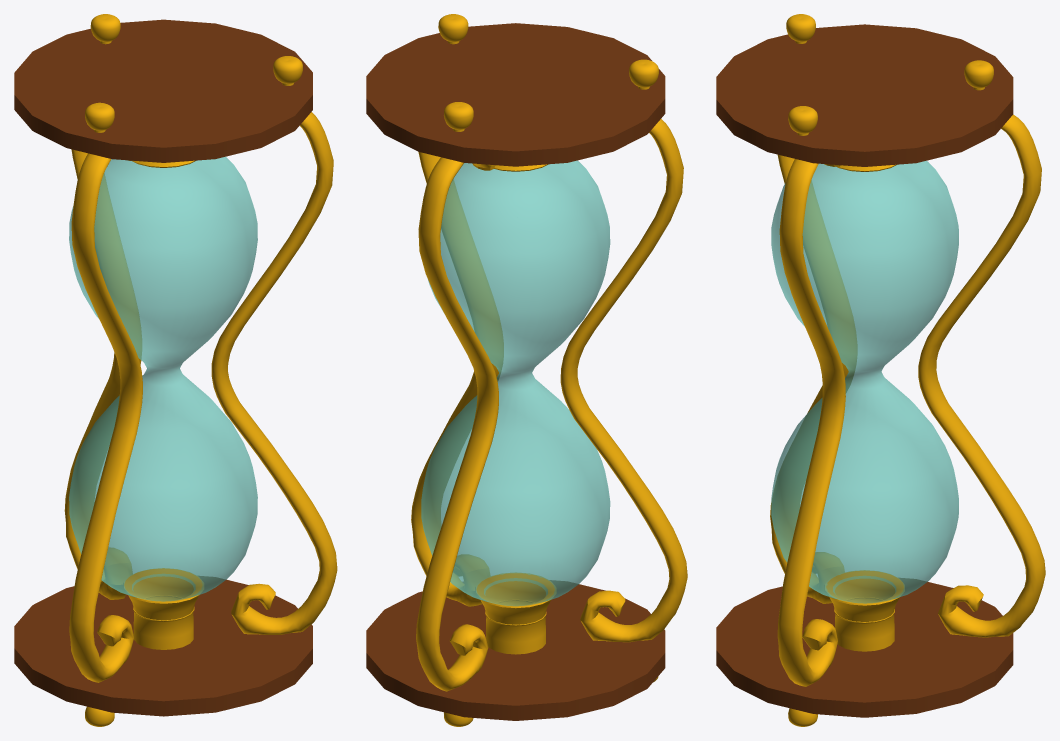
Rendered from Hourglass_high.fbx.
3 renders of one model, left to right at view 1: azimuth 30°, elevation 25°; view 2: azimuth 150°, elevation 25°; view 3: azimuth 270°, elevation 25°, orthographic.
Parts seen in each view (by area): view 1: Cone009; view 2: Cone009; view 3: Cone009.
Boxes of the visible parts, x1=… form: Cone009: x1=14, y1=14, x2=337, y2=726; Cone009: x1=366, y1=14, x2=687, y2=726; Cone009: x1=716, y1=14, x2=1045, y2=726.
Bounding box in the file's own units: 92.21 × 202 × 98.35.
